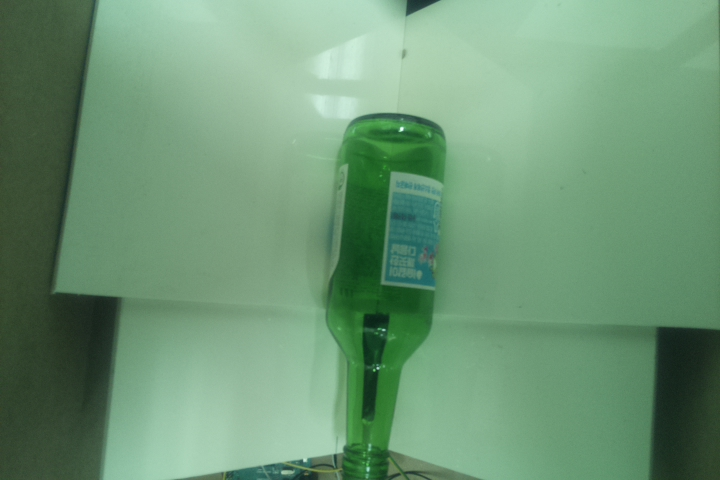soju: (321, 112, 447, 480)
